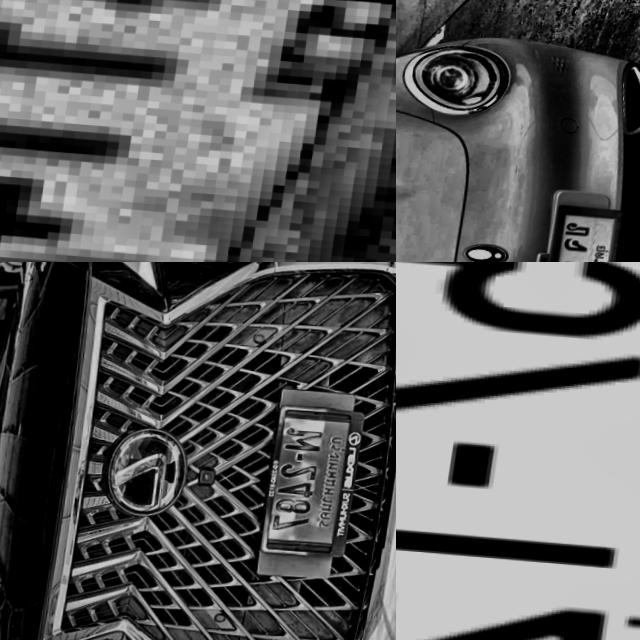license-plate: (0, 0, 396, 262), (396, 262, 640, 640), (265, 403, 373, 554), (545, 203, 626, 262)
